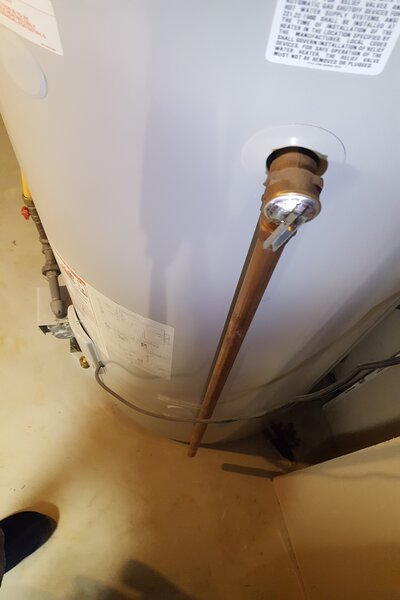valve: (261, 148, 328, 264)
